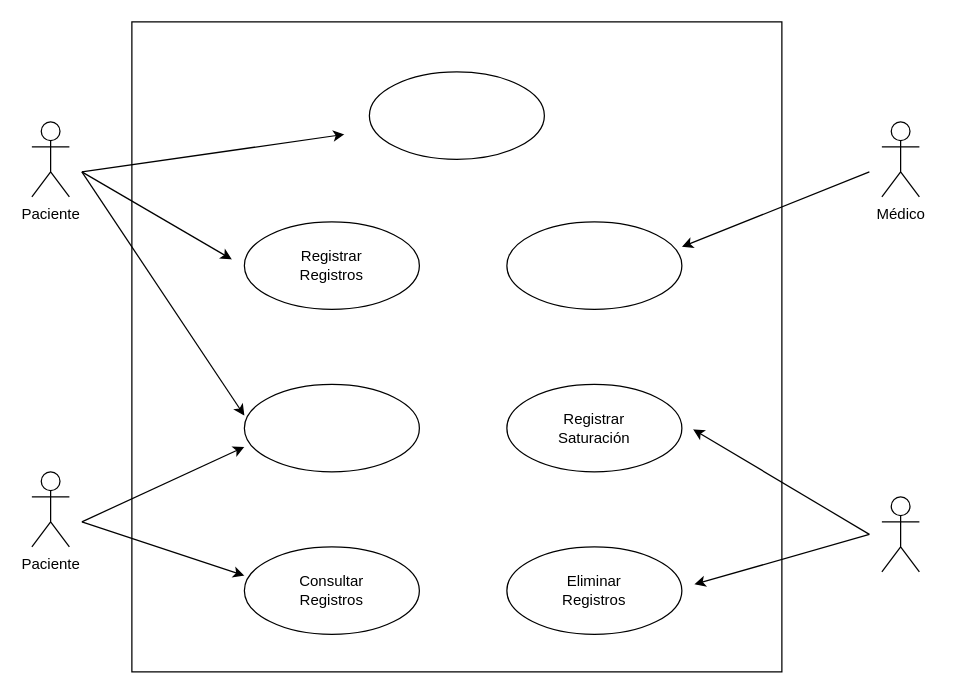
The diagram is 969 pixels wide and 694 high, and some of its shapes have lost their labels. Here are the shapes that lost their labels. From the top down, the box of each, then its label:
(368, 71, 544, 159): Registrar Signos Vitales
(506, 221, 682, 309): Registrar Presión Arterial
(243, 383, 419, 472): Registrar Temperatura
(881, 496, 919, 572): Administrador
